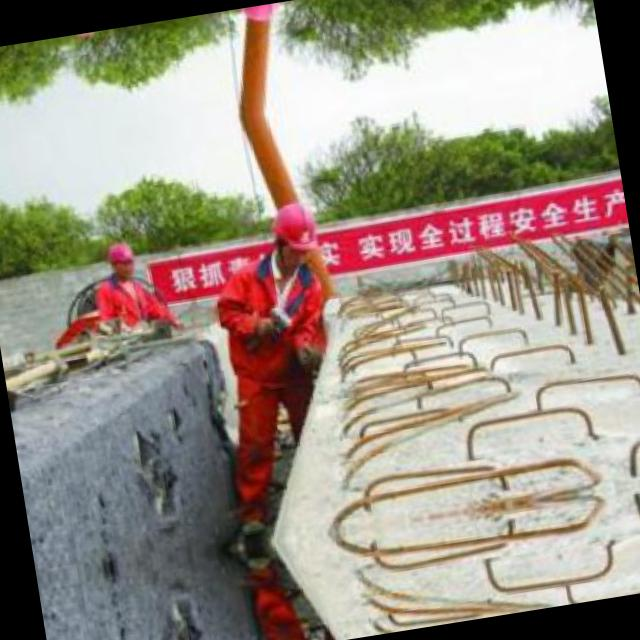helmet: (268, 200, 323, 274), (102, 238, 138, 278), (236, 2, 284, 23)
